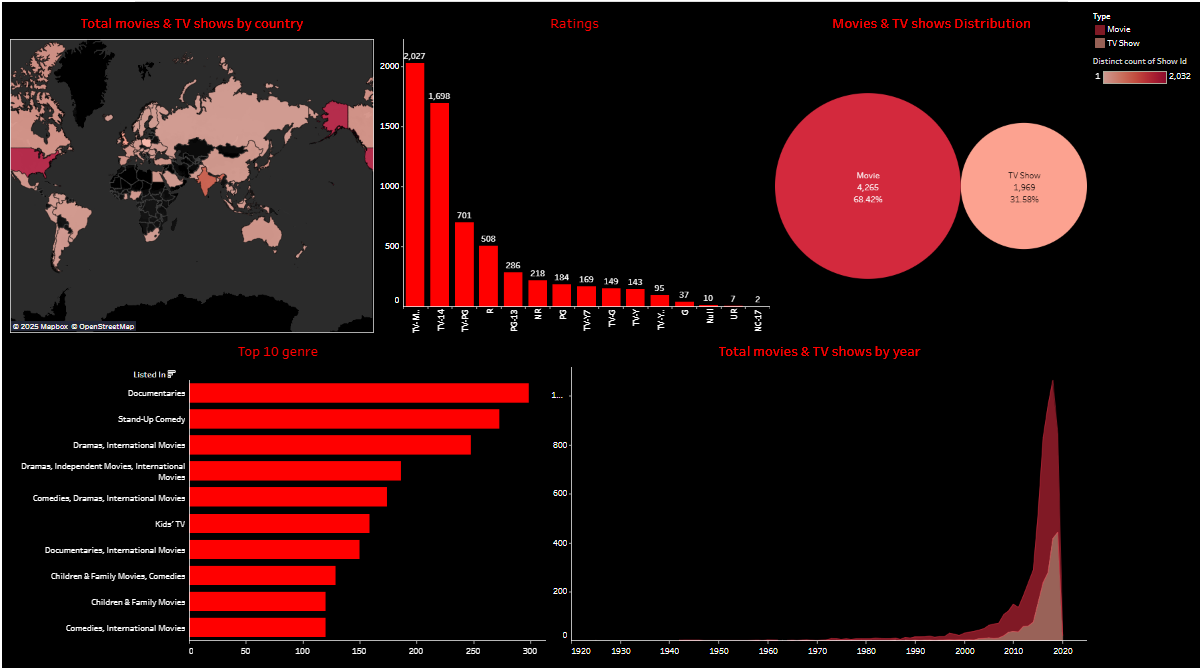

The page's visual inventory and layout, read from the dashboard file:
{"tool":"tableau","page":{"name":"Netflix","canvas":[1800,1000],"ordinal":0},"visuals":[{"type":"worksheet","title":"Total movies & TV shows by country","mark":"Multipolygon","box":[8,8,554,492]},{"type":"worksheet","title":"Ratings","mark":"Automatic","rows":["show_id"],"cols":["rating"],"box":[562,8,594,492]},{"type":"worksheet","title":"Movies & TV shows Distribution","mark":"Circle","box":[1156,8,476,492]},{"type":"legend","title":"Total movies & TV shows by year","param":"[federated.1dz6nhm0rxts7s178njcq0fwo1yq].[none:type:nk]","box":[1632,8,160,66]},{"type":"legend","title":"Total movies & TV shows by country","param":"[federated.1dz6nhm0rxts7s178njcq0fwo1yq].[ctd:show_id:qk]","box":[1632,74,160,65]},{"type":"worksheet","title":"Top 10 genre","mark":"Automatic","rows":["listed_in"],"cols":["show_id"],"box":[8,500,812,492]},{"type":"worksheet","title":"Total movies & TV shows by year","mark":"Area","rows":["show_id"],"cols":["release_year"],"box":[820,500,812,492]}]}

Visuals, with their boxes in screenshot pixels (x1, y1, x2, y2), scaled from the page's 1800x1000 canvas onto the 1200x668 screenshot:
"Total movies & TV shows by country" worksheet (Multipolygon marks): <box>5,5,375,334</box>
"Ratings" worksheet: <box>375,5,771,334</box>
"Movies & TV shows Distribution" worksheet (Circle marks): <box>771,5,1088,334</box>
"Total movies & TV shows by year" legend: <box>1088,5,1195,49</box>
"Total movies & TV shows by country" legend: <box>1088,49,1195,93</box>
"Top 10 genre" worksheet: <box>5,334,547,663</box>
"Total movies & TV shows by year" worksheet (Area marks): <box>547,334,1088,663</box>
